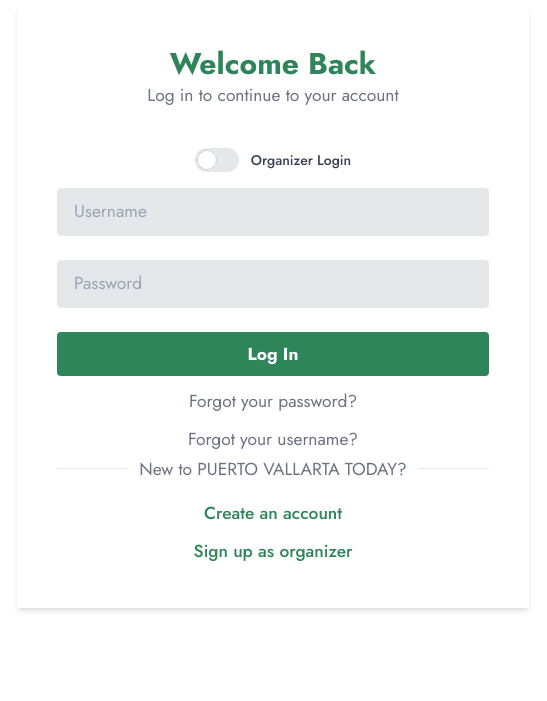
Login › shows organization username field when organizer toggle is checked
This screenshot has width=547, height=701.
Expected: the field with placeholder "Organization Username" is not shown
Step 1. Click the checkbox → (273, 160), box [195,148,351,172]
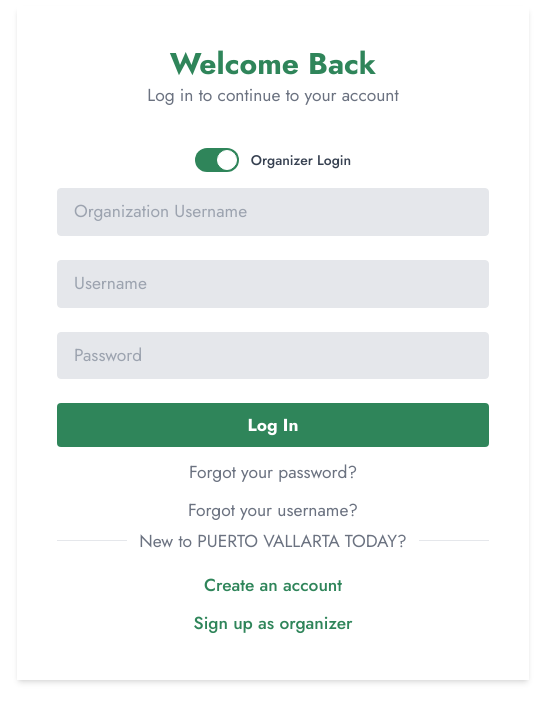
Now the field with placeholder "Organization Username" is shown, box [57,188,489,236]
